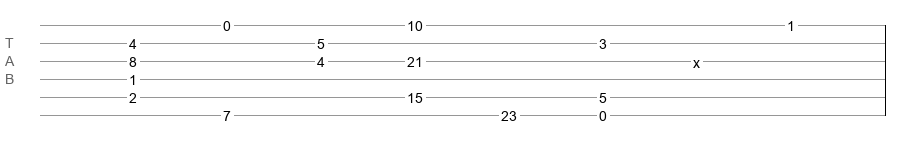0: (223, 18, 231, 28), (599, 108, 607, 118)
1: (129, 72, 137, 82), (787, 18, 795, 28)
10: (407, 18, 423, 28)
15: (407, 90, 423, 100)
2: (129, 90, 137, 100)
21: (407, 54, 423, 64)
23: (501, 108, 517, 118)
3: (599, 36, 607, 46)
4: (129, 36, 137, 46), (317, 54, 325, 64)
5: (317, 36, 325, 46), (599, 90, 607, 100)
7: (223, 108, 231, 118)
8: (129, 54, 137, 64)
x: (693, 55, 700, 63)
